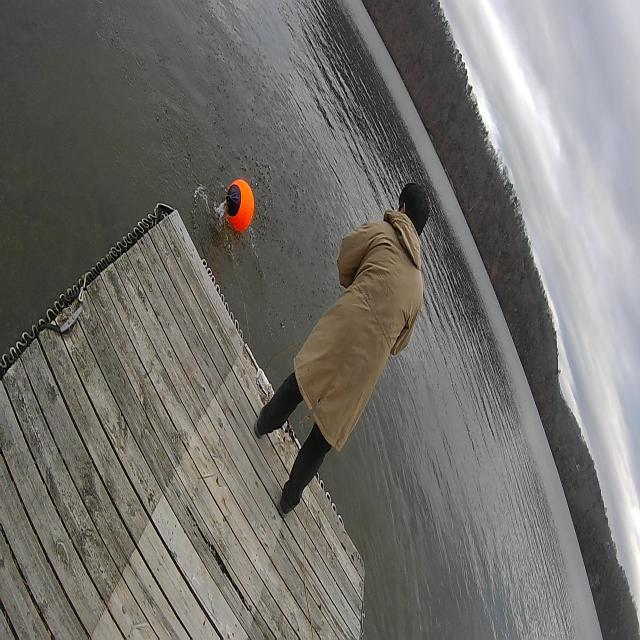Buoy: (223, 174, 257, 240)
